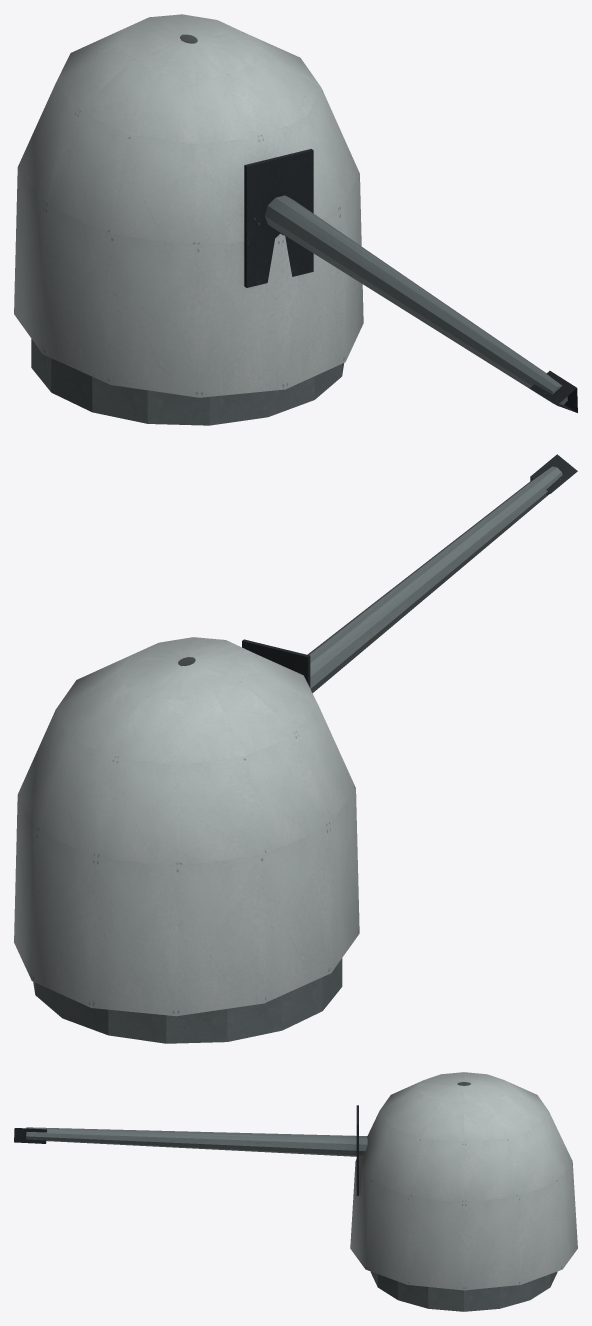
File: mount_spruance_mk45_metric.glb
The picture shows the model from 3 angles, top to bottom: view 1: azimuth 30°, elevation 25°; view 2: azimuth 150°, elevation 25°; view 3: azimuth 270°, elevation 25°; orthographic projection. The views are drawn at different scales.
Visible parts, largest first — view 1: MESH_SPRUANCE_TEMPLATE_mk45.006; view 2: MESH_SPRUANCE_TEMPLATE_mk45.006; view 3: MESH_SPRUANCE_TEMPLATE_mk45.006.
Part boxes in pixels (x1=…): MESH_SPRUANCE_TEMPLATE_mk45.006: x1=14, y1=14, x2=577, y2=425; MESH_SPRUANCE_TEMPLATE_mk45.006: x1=14, y1=454, x2=577, y2=1043; MESH_SPRUANCE_TEMPLATE_mk45.006: x1=14, y1=1072, x2=577, y2=1311.
Bounding box in the file's own units: 3.4 × 3.56 × 9.66.
1 material, 1 textured.
